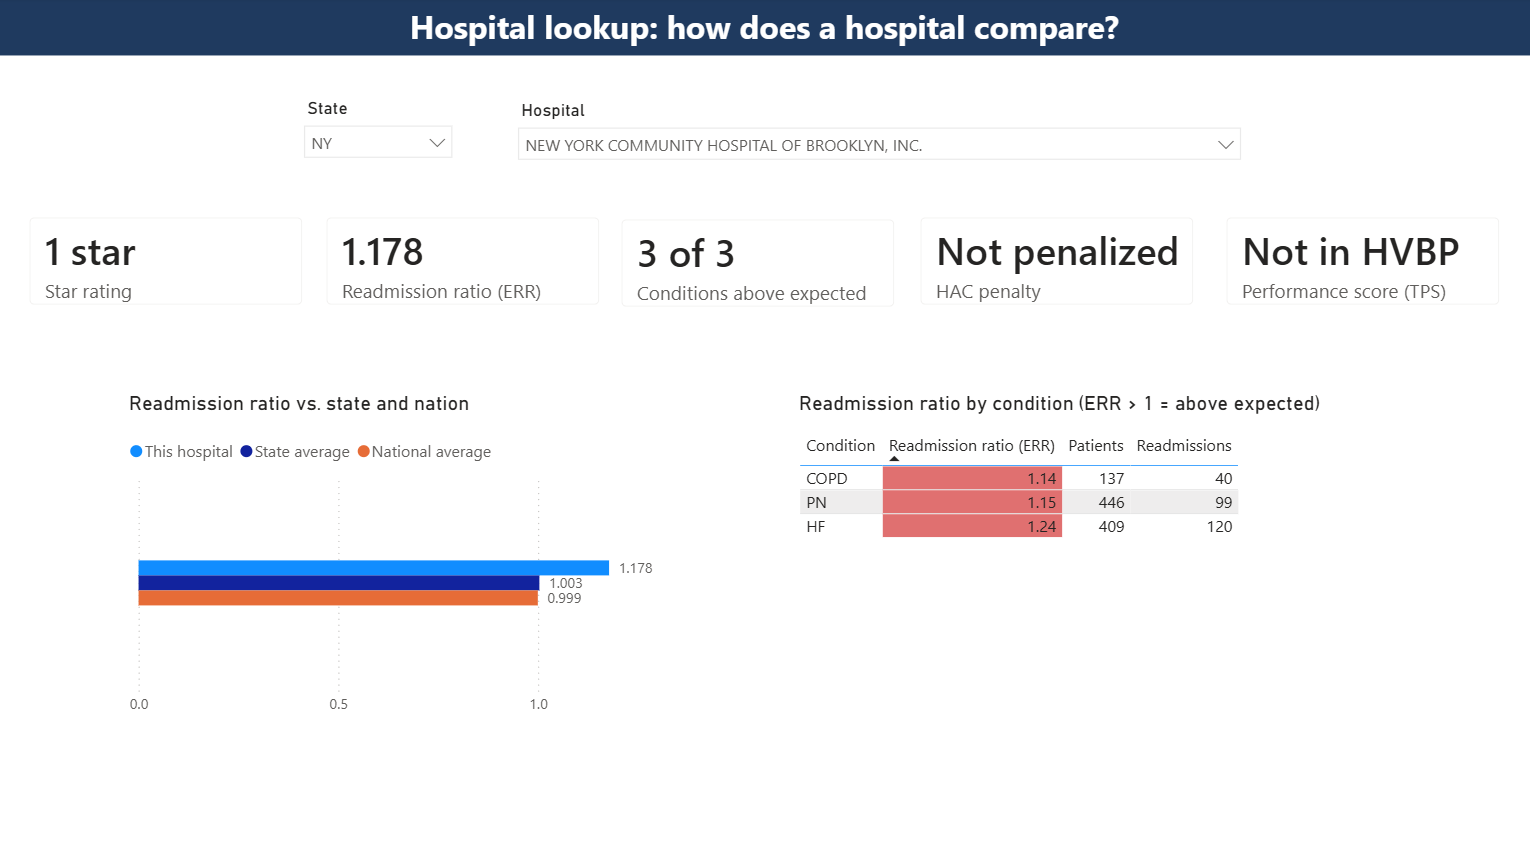

What the dashboard file says about the page in this screenshot:
{"tool":"powerbi","page":{"name":"Hospital lookup","canvas":[1280,720],"ordinal":2},"visuals":[{"type":"textbox","box":[0,0,1280,48],"z":0},{"type":"slicer","fields":{"Values":["v_hospital_analysis.facility_name"]},"box":[424,80,624,72],"z":1000},{"type":"cardVisual","fields":{"Data":["v_hospital_analysis.TPS Display"]},"box":[1009.4,165.8,262,107],"z":2000},{"type":"cardVisual","fields":{"Data":["v_hospital_analysis.Conditions Above"]},"box":[504,168,262,107],"z":3000},{"type":"cardVisual","fields":{"Data":["v_hospital_analysis.HAC Status"]},"box":[753.4,165.8,262,107],"z":4000},{"type":"cardVisual","fields":{"Data":["v_hospital_analysis.Avg ERR"]},"box":[257.4,165.8,262,107],"z":5000},{"type":"clusteredBarChart","title":"Readmission ratio vs. state and nation","fields":{"Y":["v_hospital_analysis.Avg ERR","v_hospital_analysis.State Avg ERR","v_hospital_analysis.National Avg ERR"]},"box":[104,328,456,280],"z":6000},{"type":"tableEx","title":"Readmission ratio by condition (ERR > 1 = above expected)","fields":{"Values":["clean_hrrp.condition","Avg(clean_hrrp.excess_readmission_ratio)","Sum(clean_hrrp.discharges)","Sum(clean_hrrp.readmissions)"]},"box":[664,328,480,280],"z":7000},{"type":"slicer","fields":{"Values":["v_hospital_analysis.state"]},"box":[245.2,78.9,144,72],"z":8000},{"type":"cardVisual","fields":{"Data":["Min(v_hospital_analysis.Star Label)"]},"box":[9.4,165.8,262,107],"z":9000}]}

Visuals, with their boxes in screenshot pixels (x1, y1, x2, y2), scaled from the page's 1280x720 canvas onto the 1530x858 screenshot:
textbox: box(0, 0, 1529, 57)
slicer - v_hospital_analysis.facility_name: box(507, 95, 1253, 181)
cardVisual - v_hospital_analysis.TPS Display: box(1207, 198, 1520, 325)
cardVisual - v_hospital_analysis.Conditions Above: box(602, 200, 916, 328)
cardVisual - v_hospital_analysis.HAC Status: box(901, 198, 1214, 325)
cardVisual - v_hospital_analysis.Avg ERR: box(308, 198, 621, 325)
"Readmission ratio vs. state and nation" clusteredBarChart: box(124, 391, 669, 725)
"Readmission ratio by condition (ERR > 1 = above expected)" tableEx: box(794, 391, 1367, 725)
slicer - v_hospital_analysis.state: box(293, 94, 465, 180)
cardVisual - Min(v_hospital_analysis.Star Label): box(11, 198, 324, 325)
